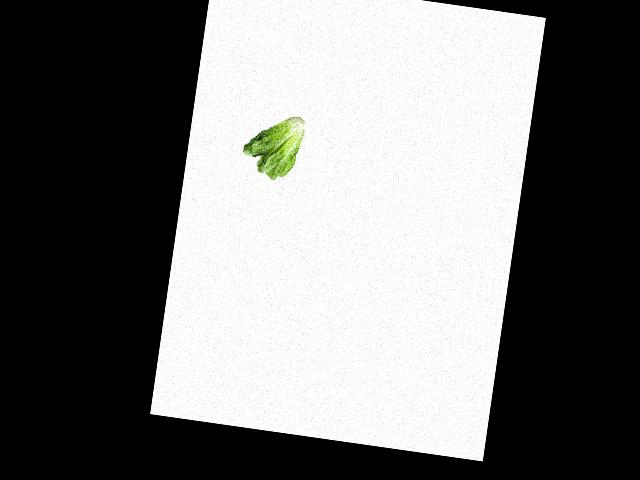lettuce: (236, 105, 312, 183)
